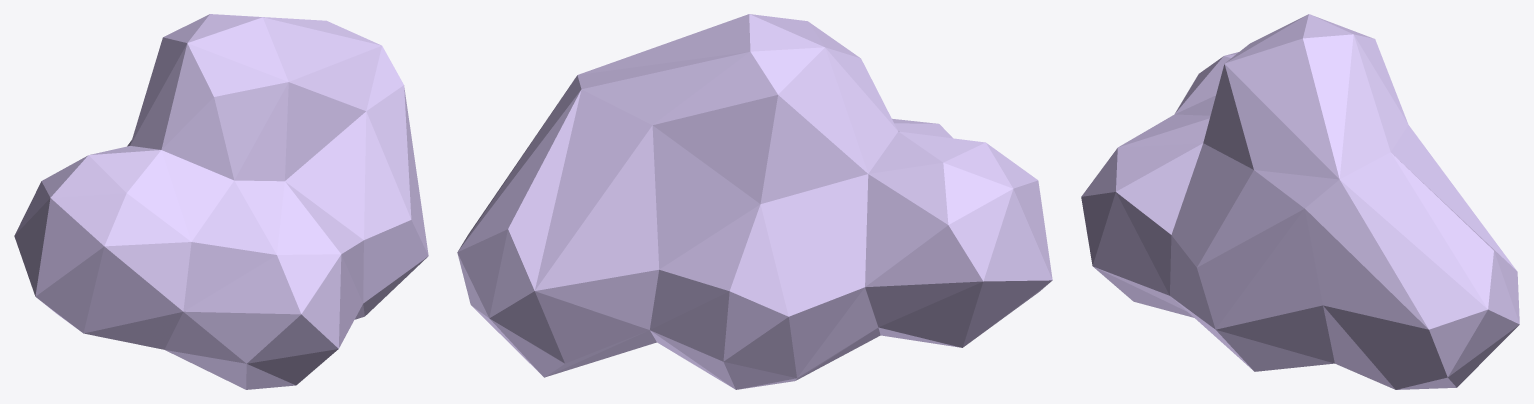
File: Cloud_11.glb
The picture shows the model from 3 angles, left to right: view 1: azimuth 30°, elevation 25°; view 2: azimuth 150°, elevation 25°; view 3: azimuth 270°, elevation 25°; orthographic projection. The views are drawn at different scales.
Visible parts, largest first — view 1: Cloud_11; view 2: Cloud_11; view 3: Cloud_11.
Boxes of the visible parts, box(x1,y1,x2,y2) form: Cloud_11: box(14, 14, 428, 389); Cloud_11: box(457, 14, 1052, 389); Cloud_11: box(1081, 14, 1519, 389).
Bounding box in the file's own units: 4.85 × 3.16 × 4.2.
